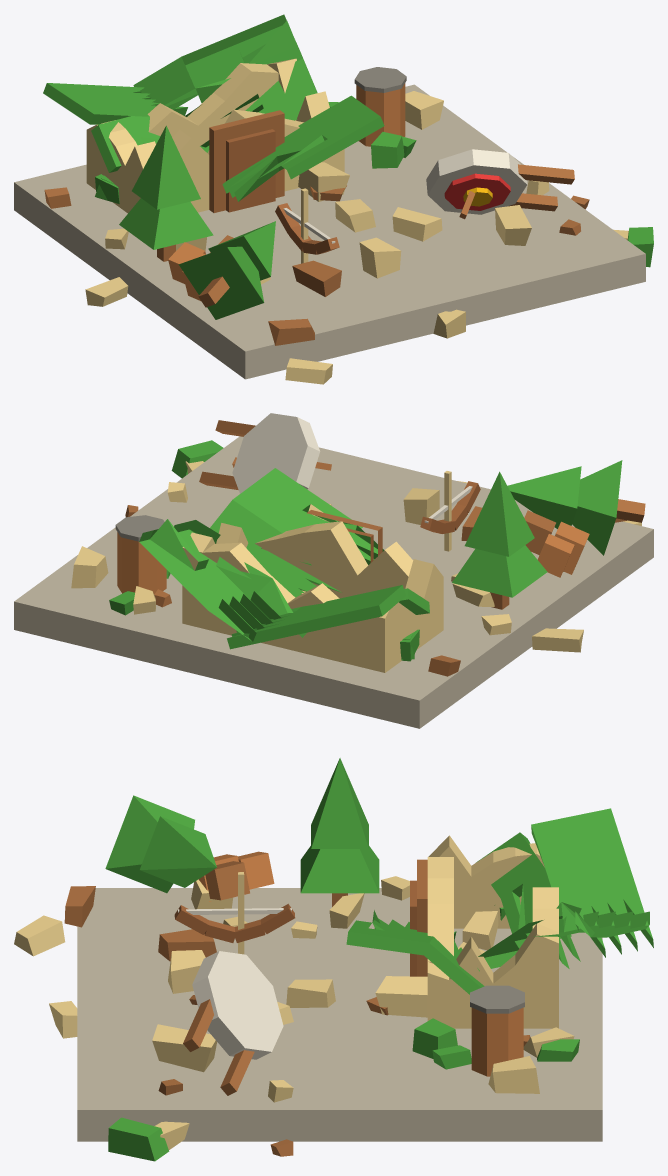
The model's file is archery_range_t1_v3_dmg2.glb.
The picture shows the model from 3 angles, top to bottom: view 1: azimuth 30°, elevation 25°; view 2: azimuth 150°, elevation 25°; view 3: azimuth 270°, elevation 25°; orthographic projection. The views are drawn at different scales.
Visible parts, largest first — view 1: archery_range_t1_v3_dmg2; view 2: archery_range_t1_v3_dmg2; view 3: archery_range_t1_v3_dmg2.
Part boxes in pixels (<box>): archery_range_t1_v3_dmg2: <box>14,14,653,384</box>; archery_range_t1_v3_dmg2: <box>14,413,653,728</box>; archery_range_t1_v3_dmg2: <box>14,758,653,1161</box>.
Size of the model in its own units: 0.7263 by 0.23 by 0.7308.
Materials: 1 (1 with a texture image).
